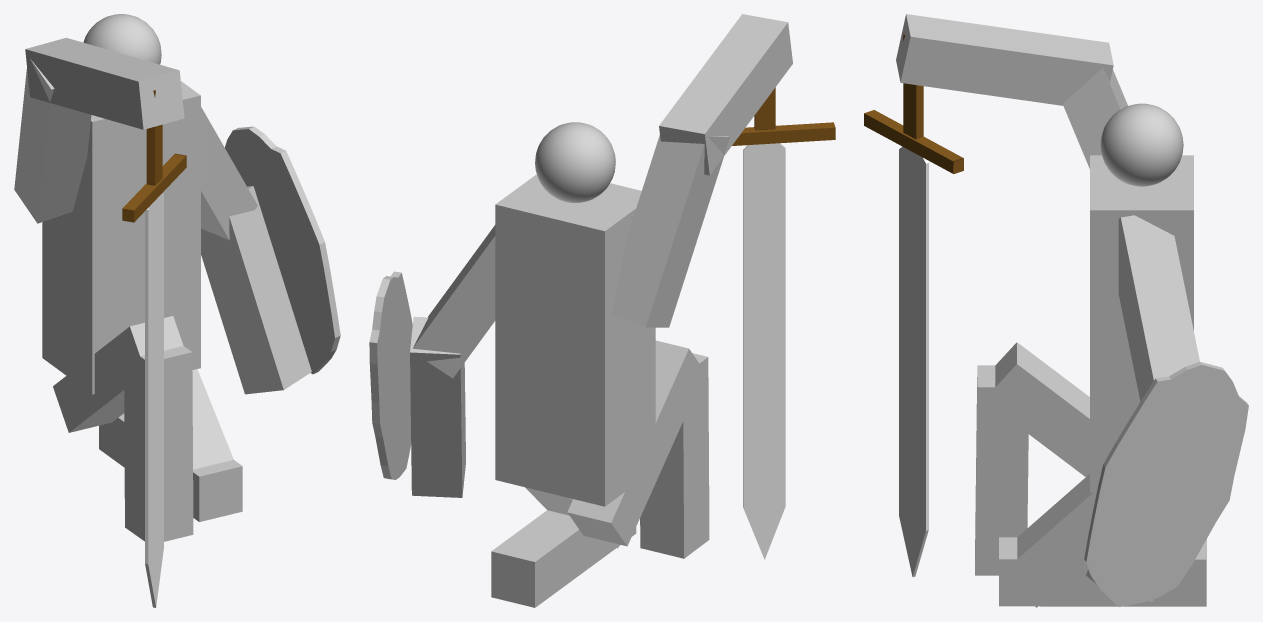
The model's file is human02.fbx.
3 views of the same model, side by side, from view 1: azimuth 30°, elevation 25°; view 2: azimuth 150°, elevation 25°; view 3: azimuth 270°, elevation 25° (orthographic). The views are drawn at different scales.
Visible parts, largest first — view 1: body, arm004, shield, arm002, sowrd, leg002, arm001, leg001, arm003, leg004, Head, leg003; view 2: body, sowrd, arm001, arm002, leg002, arm004, shield, leg004, leg001, arm003, Head, leg003; view 3: shield, sowrd, body, arm002, arm003, leg002, leg001, leg004, Head, leg003, arm001.
Part boxes in pixels (x1,y1,x2,y2): body: [42, 81, 200, 394]; arm004: [201, 186, 311, 394]; shield: [225, 126, 340, 374]; arm002: [25, 37, 184, 129]; sowrd: [122, 90, 186, 607]; leg002: [124, 345, 193, 541]; arm001: [14, 58, 91, 223]; leg001: [53, 316, 183, 432]; arm003: [201, 107, 257, 240]; leg004: [99, 413, 242, 521]; Head: [83, 14, 161, 64]; leg003: [192, 369, 233, 495]; body: [495, 174, 655, 506]; sowrd: [732, 87, 835, 559]; arm001: [612, 135, 730, 327]; arm002: [659, 14, 792, 175]; leg002: [640, 353, 709, 558]; arm004: [410, 316, 465, 497]; shield: [369, 271, 412, 479]; leg004: [491, 510, 636, 607]; leg001: [567, 340, 699, 546]; arm003: [413, 225, 495, 378]; Head: [535, 122, 615, 202]; leg003: [525, 487, 619, 548]; shield: [1084, 361, 1248, 606]; sowrd: [864, 33, 963, 576]; body: [1090, 155, 1193, 492]; arm002: [896, 14, 1113, 105]; arm003: [1118, 215, 1199, 401]; leg002: [975, 365, 1028, 575]; leg001: [984, 342, 1089, 476]; leg004: [999, 537, 1206, 606]; Head: [1100, 103, 1183, 186]; leg003: [1008, 474, 1096, 607]; arm001: [1062, 68, 1127, 168].
Bounding box in the file's own units: 1.85 × 2.94 × 1.85.
Materials: 12 (1 with a texture image).
